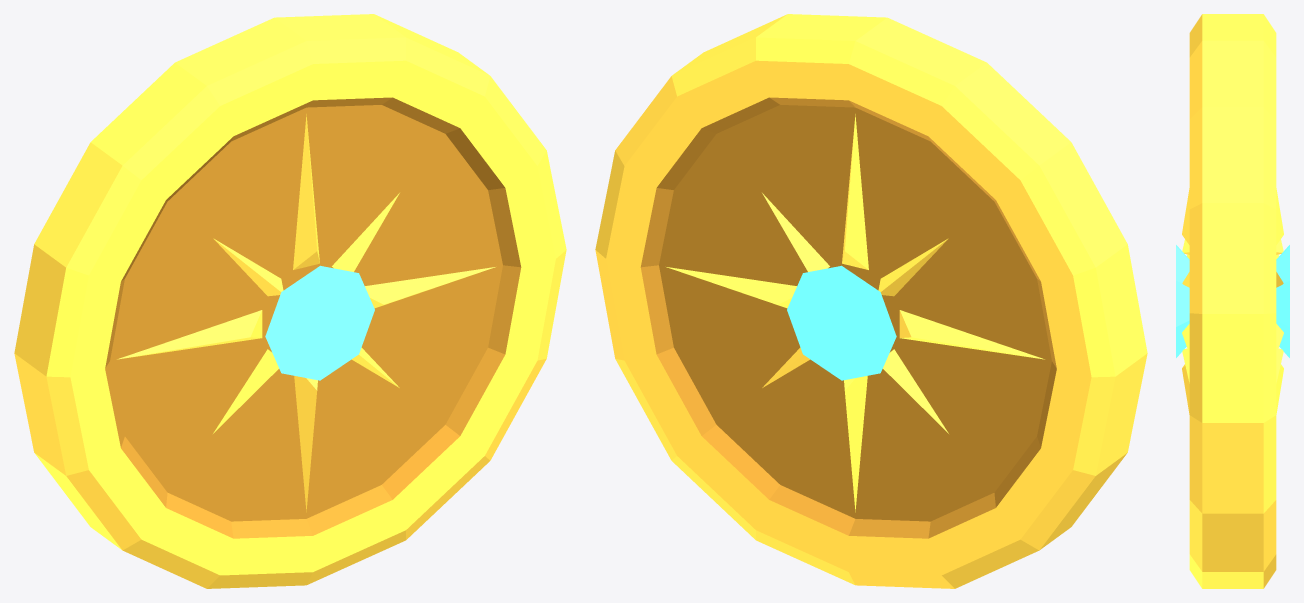
The model's file is compass_doubloon.glb.
The picture shows the model from 3 angles, left to right: view 1: azimuth 30°, elevation 25°; view 2: azimuth 150°, elevation 25°; view 3: azimuth 270°, elevation 25°; orthographic projection. The views are drawn at different scales.
Parts seen in each view (by area): view 1: CompassDoubloon; view 2: CompassDoubloon; view 3: CompassDoubloon.
Boxes of the visible parts, bbox=[...] form: CompassDoubloon: bbox=[14, 14, 566, 588]; CompassDoubloon: bbox=[595, 14, 1147, 588]; CompassDoubloon: bbox=[1176, 14, 1289, 588].
Size of the model in its own units: 0.9 by 0.9 by 0.178.
